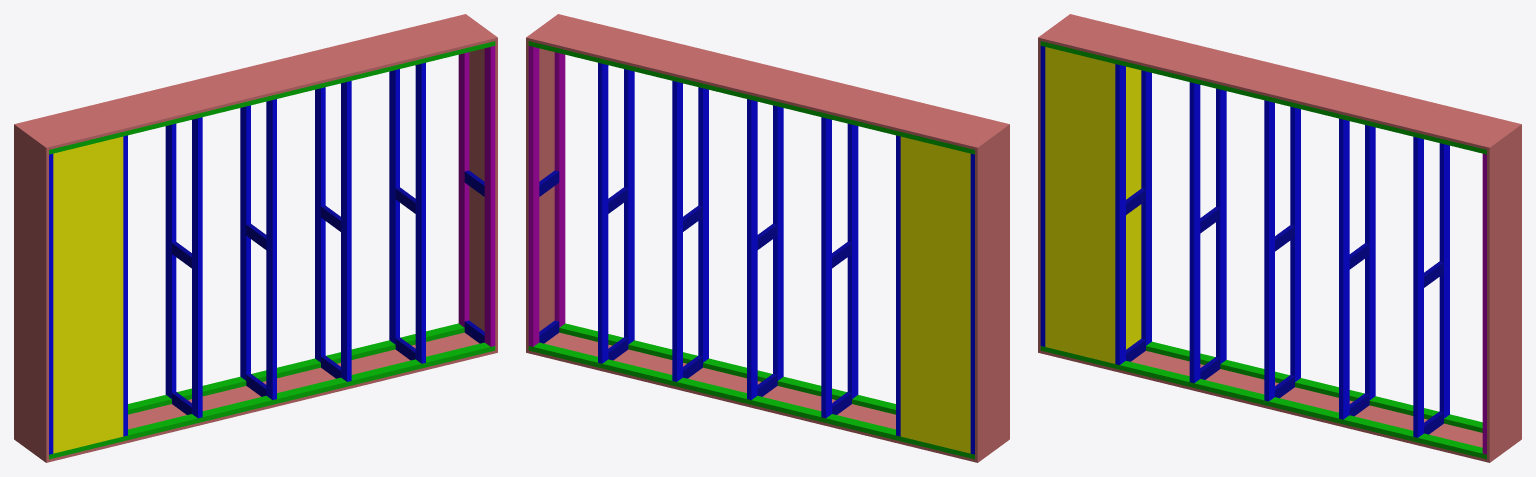
Rendered from result.glb.
3 views of the same model, side by side, from view 1: azimuth 30°, elevation 25°; view 2: azimuth 150°, elevation 25°; view 3: azimuth 330°, elevation 25° (orthographic).
Visible parts, largest first — view 1: 19635abf-249b-44fe-bbc9-7fb0f5a2fb4a__undefined, 894392e9-177e-4aa3-87af-295e77e048a5__side board, dd812614-7bca-4bb9-bfb3-ee79990012c2__undefined, 74e1823f-fcc1-4d01-93a0-0c030668971d__bale, 1ab6564a-021e-4009-8d47-bee4bda79080__undefined, c98efb2d-d597-46da-b3bc-6490d38e0ddf__bottom board, 583eed7e-da5b-4f96-8114-9aba87869c08__side board, b7f7bbff-b3f0-4106-8abb-7883bf1e0888__bottom plate, 9f90444a-b1fa-45bf-a510-f19e12a8fb98__undefined, b7d76a4b-b48e-47d2-bc14-7bd9abdb611d__undefined, 90445cd1-8460-4dec-871a-195741958f69__undefined, 086f8598-f77c-4aa8-96bb-41f483d2332e__undefined (+11 smaller); view 2: 19635abf-249b-44fe-bbc9-7fb0f5a2fb4a__undefined, 894392e9-177e-4aa3-87af-295e77e048a5__side board, dd812614-7bca-4bb9-bfb3-ee79990012c2__undefined, 74e1823f-fcc1-4d01-93a0-0c030668971d__bale, 1ab6564a-021e-4009-8d47-bee4bda79080__undefined, c98efb2d-d597-46da-b3bc-6490d38e0ddf__bottom board, 583eed7e-da5b-4f96-8114-9aba87869c08__side board, 23a4e1ab-ce02-428b-b792-25f07c9c9715__bottom plate back, 2726b4bc-7635-4845-a940-54fa8b3f4e35__undefined, aa7e38bc-82b0-4bd4-bc69-f3fc44db209f__undefined, 99e6ce8b-c0ad-467b-9043-cb6f60abfd28__undefined, 88f029c5-3204-4ce1-899e-0f1753549c34__undefined (+11 smaller); view 3: 19635abf-249b-44fe-bbc9-7fb0f5a2fb4a__undefined, 583eed7e-da5b-4f96-8114-9aba87869c08__side board, dd812614-7bca-4bb9-bfb3-ee79990012c2__undefined, 74e1823f-fcc1-4d01-93a0-0c030668971d__bale, 1ab6564a-021e-4009-8d47-bee4bda79080__undefined, c98efb2d-d597-46da-b3bc-6490d38e0ddf__bottom board, b7f7bbff-b3f0-4106-8abb-7883bf1e0888__bottom plate, b7d76a4b-b48e-47d2-bc14-7bd9abdb611d__undefined, 086f8598-f77c-4aa8-96bb-41f483d2332e__undefined, 3bc163fd-402c-49dc-84e7-ac630838853f__undefined, fde86c9c-5015-4f14-a1a6-25b0016009c6__undefined, 90445cd1-8460-4dec-871a-195741958f69__undefined (+11 smaller).
Boxes of the visible parts, <box> form: 19635abf-249b-44fe-bbc9-7fb0f5a2fb4a__undefined: <box>14,14,497,150</box>; 894392e9-177e-4aa3-87af-295e77e048a5__side board: <box>14,127,48,459</box>; dd812614-7bca-4bb9-bfb3-ee79990012c2__undefined: <box>53,153,123,264</box>; 74e1823f-fcc1-4d01-93a0-0c030668971d__bale: <box>53,342,123,453</box>; 1ab6564a-021e-4009-8d47-bee4bda79080__undefined: <box>53,247,123,358</box>; c98efb2d-d597-46da-b3bc-6490d38e0ddf__bottom board: <box>14,332,497,462</box>; 583eed7e-da5b-4f96-8114-9aba87869c08__side board: <box>469,40,497,350</box>; b7f7bbff-b3f0-4106-8abb-7883bf1e0888__bottom plate: <box>49,342,495,459</box>; 9f90444a-b1fa-45bf-a510-f19e12a8fb98__undefined: <box>484,46,495,346</box>; b7d76a4b-b48e-47d2-bc14-7bd9abdb611d__undefined: <box>192,117,202,418</box>; 90445cd1-8460-4dec-871a-195741958f69__undefined: <box>341,81,351,381</box>; 086f8598-f77c-4aa8-96bb-41f483d2332e__undefined: <box>266,99,276,399</box>; 19635abf-249b-44fe-bbc9-7fb0f5a2fb4a__undefined: <box>526,14,1009,150</box>; 894392e9-177e-4aa3-87af-295e77e048a5__side board: <box>975,127,1009,459</box>; dd812614-7bca-4bb9-bfb3-ee79990012c2__undefined: <box>900,153,970,264</box>; 74e1823f-fcc1-4d01-93a0-0c030668971d__bale: <box>900,342,970,453</box>; 1ab6564a-021e-4009-8d47-bee4bda79080__undefined: <box>900,247,970,358</box>; c98efb2d-d597-46da-b3bc-6490d38e0ddf__bottom board: <box>526,332,1009,462</box>; 583eed7e-da5b-4f96-8114-9aba87869c08__side board: <box>526,40,554,350</box>; 23a4e1ab-ce02-428b-b792-25f07c9c9715__bottom plate back: <box>528,342,974,459</box>; 2726b4bc-7635-4845-a940-54fa8b3f4e35__undefined: <box>528,46,539,346</box>; aa7e38bc-82b0-4bd4-bc69-f3fc44db209f__undefined: <box>821,117,831,418</box>; 99e6ce8b-c0ad-467b-9043-cb6f60abfd28__undefined: <box>672,81,682,381</box>; 88f029c5-3204-4ce1-899e-0f1753549c34__undefined: <box>747,99,757,399</box>; 19635abf-249b-44fe-bbc9-7fb0f5a2fb4a__undefined: <box>1038,14,1521,150</box>; 583eed7e-da5b-4f96-8114-9aba87869c08__side board: <box>1487,127,1521,459</box>; dd812614-7bca-4bb9-bfb3-ee79990012c2__undefined: <box>1045,63,1141,174</box>; 74e1823f-fcc1-4d01-93a0-0c030668971d__bale: <box>1045,251,1141,363</box>; 1ab6564a-021e-4009-8d47-bee4bda79080__undefined: <box>1045,156,1141,269</box>; c98efb2d-d597-46da-b3bc-6490d38e0ddf__bottom board: <box>1038,350,1521,462</box>; b7f7bbff-b3f0-4106-8abb-7883bf1e0888__bottom plate: <box>1040,346,1486,459</box>; b7d76a4b-b48e-47d2-bc14-7bd9abdb611d__undefined: <box>1189,82,1200,383</box>; 086f8598-f77c-4aa8-96bb-41f483d2332e__undefined: <box>1264,100,1274,401</box>; 3bc163fd-402c-49dc-84e7-ac630838853f__undefined: <box>1413,136,1423,437</box>; fde86c9c-5015-4f14-a1a6-25b0016009c6__undefined: <box>1115,64,1125,364</box>; 90445cd1-8460-4dec-871a-195741958f69__undefined: <box>1339,118,1349,419</box>.
Bounding box in the file's own units: 3000 × 2000 × 370.
